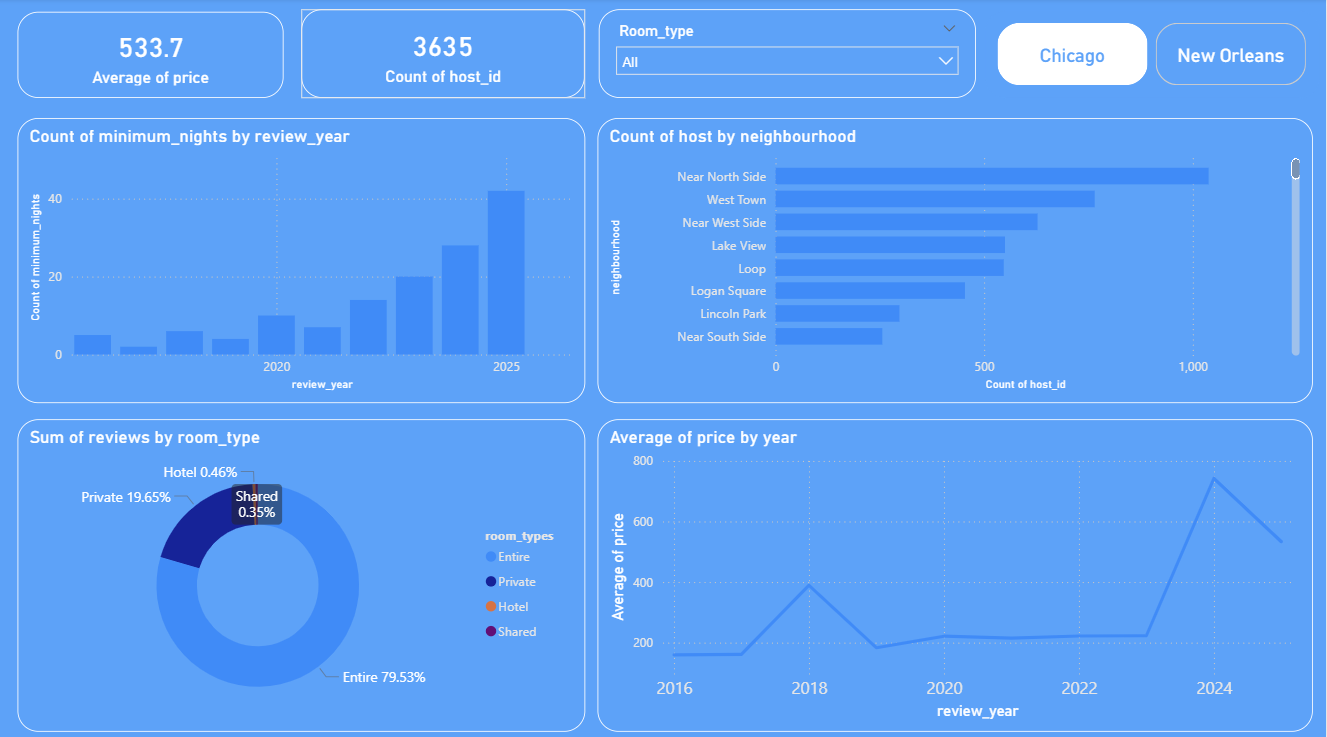

The dashboard page shown, as its layout file describes it:
{"tool":"powerbi","page":{"name":"Property","canvas":[1280,720],"ordinal":1},"visuals":[{"type":"slicer","fields":{"Values":["combined_airbnb_data.room_type_simple"]},"box":[577.9,10.9,364.3,85.7],"z":0},{"type":"card","title":"Avg. Monthly Review","fields":{"Values":["Count(combined_airbnb_data.host_id)"]},"box":[290.8,10.9,273.9,85.7],"z":1000},{"type":"card","title":"Avg. Monthly Review","fields":{"Values":["Avg(combined_airbnb_data.price)"]},"box":[16.9,13.3,257,83.2],"z":2000},{"type":"barChart","title":"Count of host by neighbourhood","fields":{"Category":["combined_airbnb_data.neighbourhood"],"Y":["CountNonNull(combined_airbnb_data.host_id)"]},"box":[576.7,115.8,690.1,275.1],"z":3000},{"type":"lineChart","title":"Average of price by year","fields":{"Y":["Avg(combined_airbnb_data.price)"],"Category":["combined_airbnb_data.review_year"]},"box":[576.7,406.6,690.1,301.6],"z":4000},{"type":"donutChart","title":"Sum of reviews by room_type","fields":{"Y":["Sum(combined_airbnb_data.number_of_reviews)"],"Category":["combined_airbnb_data.room_type_simple"]},"box":[16.9,406.6,547.7,301.6],"z":5000},{"type":"advancedSlicerVisual","fields":{"Values":["combined_airbnb_data.city"]},"box":[950.7,12.1,323.3,84.5],"z":6000},{"type":"columnChart","fields":{"Category":["combined_airbnb_data.review_year"],"Y":["Count(combined_airbnb_data.minimum_nights)"]},"box":[16.9,115.8,547.7,275.1],"z":7000}]}

Visuals, with their boxes in screenshot pixels (x1, y1, x2, y2), scaled from the page's 1280x720 canvas onto the 1327x737 screenshot:
slicer - combined_airbnb_data.room_type_simple: {"left": 599, "top": 11, "right": 977, "bottom": 99}
"Avg. Monthly Review" card: {"left": 301, "top": 11, "right": 585, "bottom": 99}
"Avg. Monthly Review" card: {"left": 18, "top": 14, "right": 284, "bottom": 99}
"Count of host by neighbourhood" barChart: {"left": 598, "top": 119, "right": 1313, "bottom": 400}
"Average of price by year" lineChart: {"left": 598, "top": 416, "right": 1313, "bottom": 725}
"Sum of reviews by room_type" donutChart: {"left": 18, "top": 416, "right": 585, "bottom": 725}
advancedSlicerVisual - combined_airbnb_data.city: {"left": 986, "top": 12, "right": 1321, "bottom": 99}
columnChart - combined_airbnb_data.review_year x Count(combined_airbnb_data.minimum_nights): {"left": 18, "top": 119, "right": 585, "bottom": 400}
